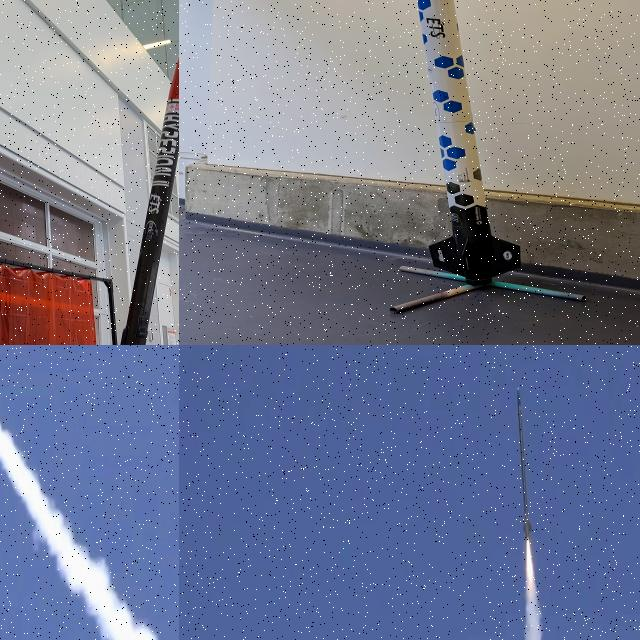Rocket: (417, 0, 521, 285), (120, 54, 179, 345), (516, 386, 532, 537)
